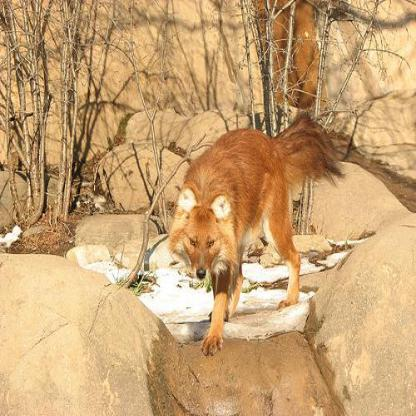dhole: (167, 115, 346, 356)
